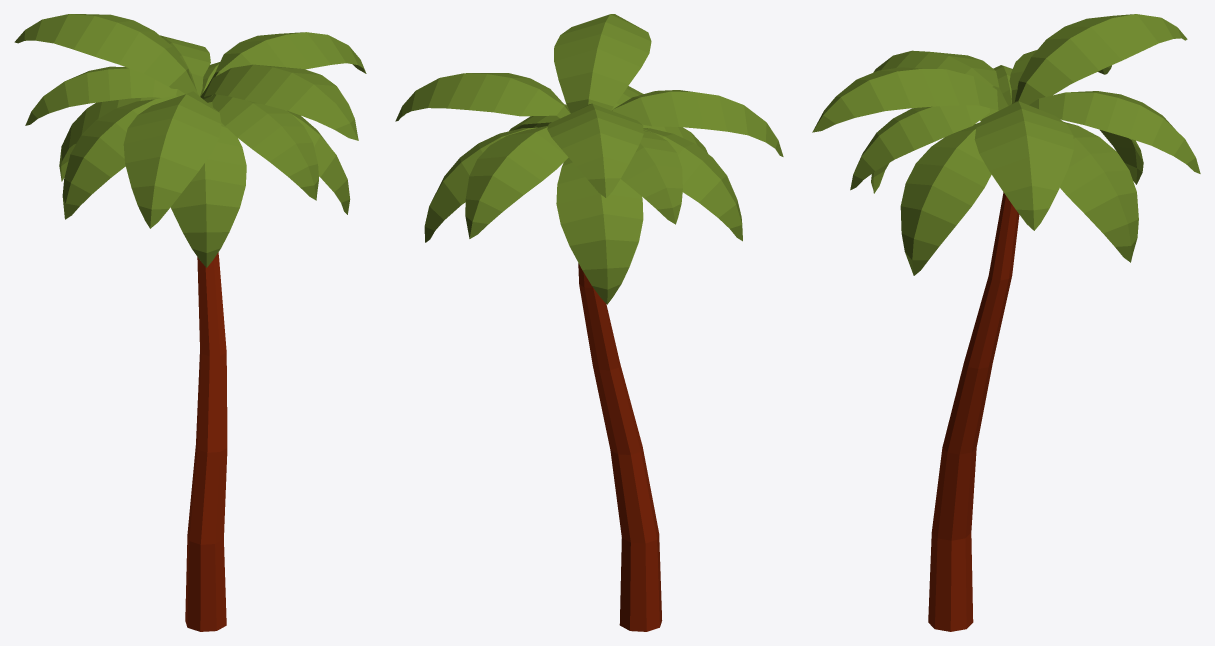
File: Palm_tree_Folhas_Verde_Claro.fbx
3 views of the same model, side by side, from view 1: azimuth 30°, elevation 25°; view 2: azimuth 150°, elevation 25°; view 3: azimuth 270°, elevation 25° (orthographic). The views are drawn at different scales.
Parts seen in each view (by area): view 1: Palm_tree_Folhas_Verde_Claro; view 2: Palm_tree_Folhas_Verde_Claro; view 3: Palm_tree_Folhas_Verde_Claro.
Part boxes in pixels (box(x1,y1,x2,y2)): Palm_tree_Folhas_Verde_Claro: box(14, 14, 366, 631); Palm_tree_Folhas_Verde_Claro: box(395, 14, 783, 631); Palm_tree_Folhas_Verde_Claro: box(812, 14, 1200, 631).
Size of the model in its own units: 324 by 540 by 324.
